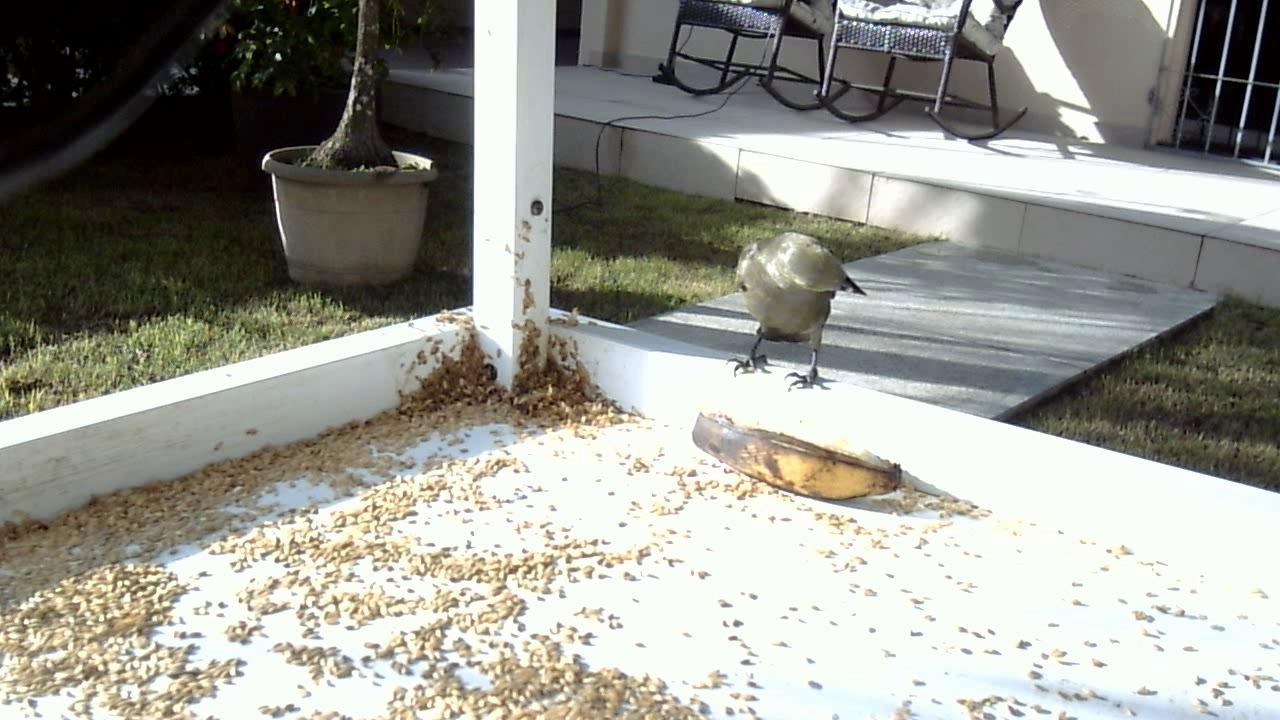sanhaco_do_coqueiro: (717, 223, 871, 397)
